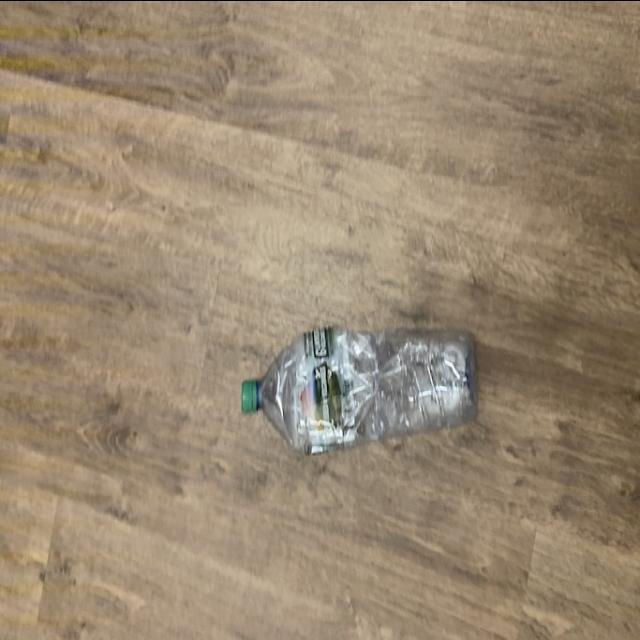litter: (240, 324, 482, 454)
